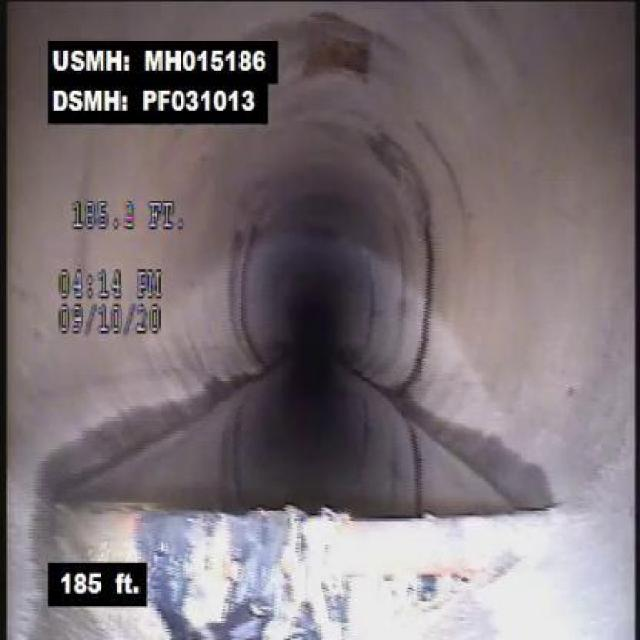Utility intrusion: (39, 502, 578, 596)
